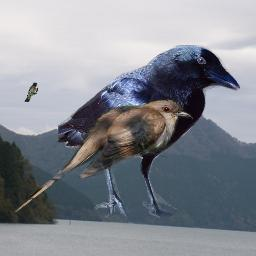Crow: (58, 45, 240, 220)
Cuckoo: (14, 98, 193, 214)
Swallow: (24, 82, 38, 102)
